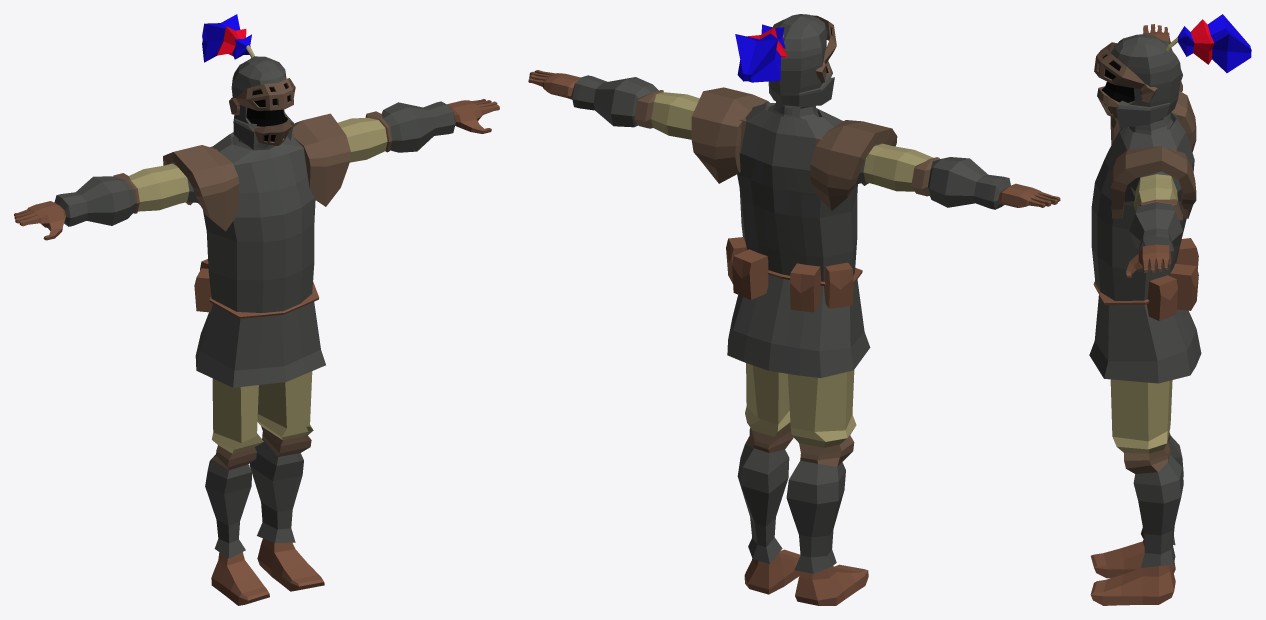
File: player.fbx
3 views of the same model, side by side, from view 1: azimuth 30°, elevation 25°; view 2: azimuth 150°, elevation 25°; view 3: azimuth 270°, elevation 25° (orthographic). The views are drawn at different scales.
Parts seen in each view (by area): view 1: cavaleiro, ul; view 2: cavaleiro, ul; view 3: cavaleiro, ul.
Part boxes in pixels (<box>): cavaleiro: <box>14,56,499,605</box>; ul: <box>202,14,254,62</box>; cavaleiro: <box>528,14,1060,605</box>; ul: <box>735,24,788,82</box>; cavaleiro: <box>1089,24,1201,605</box>; ul: <box>1166,14,1251,72</box>.
Bounding box in the file's own units: 763 × 813 × 213.
